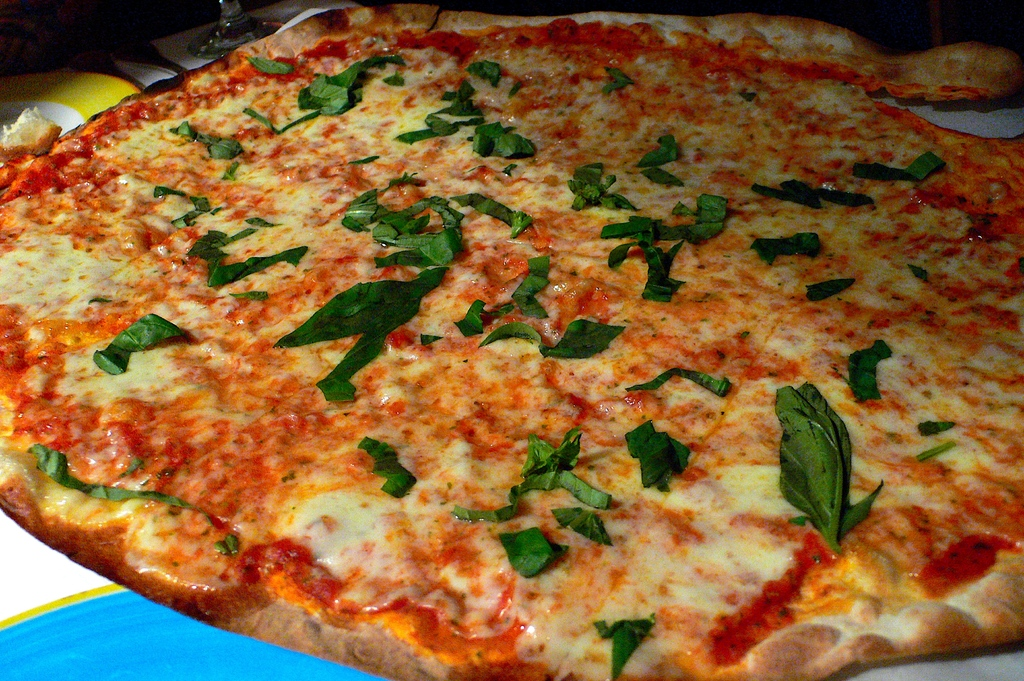Pizza: (0, 15, 1018, 677)
